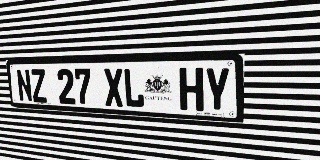2: (57, 69, 76, 104)
7: (73, 69, 93, 105)
H: (179, 68, 204, 111)
L: (123, 68, 145, 108)
N: (16, 69, 33, 102)
X: (103, 68, 124, 107)
Y: (204, 67, 230, 113)
Z: (30, 69, 48, 103)
